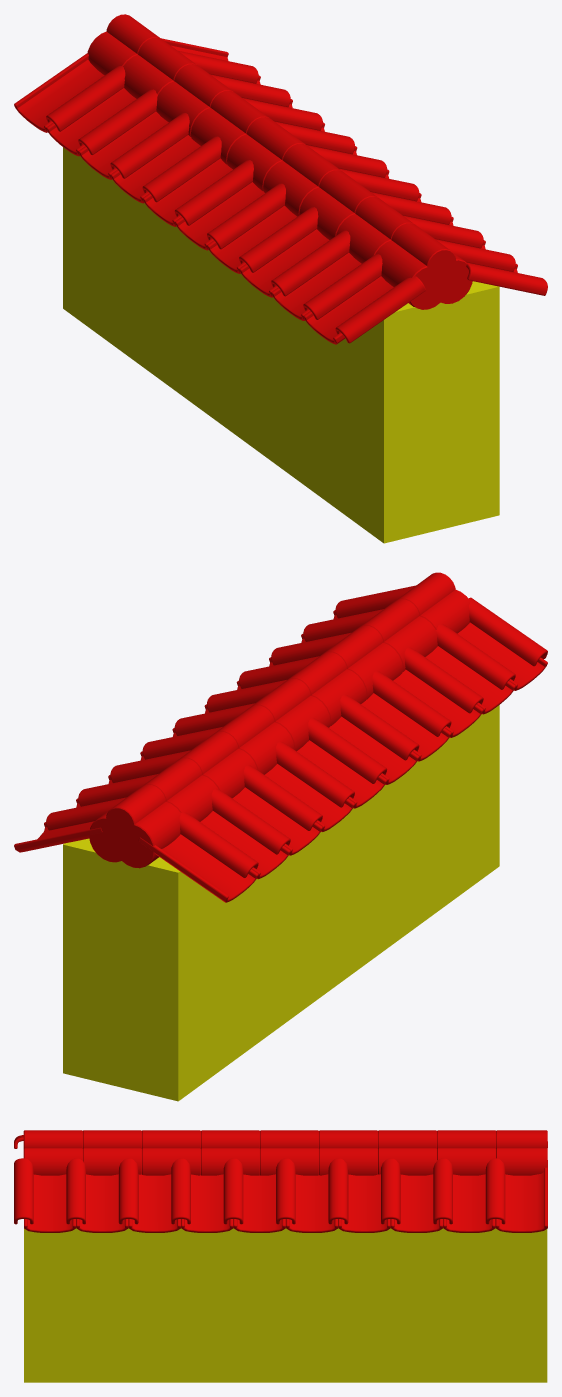
Rendered from hanok_style_wall.fbx.
3 renders of one model, top to bottom at view 1: azimuth 30°, elevation 25°; view 2: azimuth 150°, elevation 25°; view 3: azimuth 270°, elevation 25°, orthographic. The views are drawn at different scales.
Parts seen in each view (by area): view 1: hanok_style_wall; view 2: hanok_style_wall; view 3: hanok_style_wall.
Boxes of the visible parts, box(x1,y1,x2,y2) form: hanok_style_wall: box(14, 14, 547, 543); hanok_style_wall: box(14, 572, 547, 1101); hanok_style_wall: box(14, 1130, 547, 1382).
Size of the model in its own units: 124 by 156 by 330.
